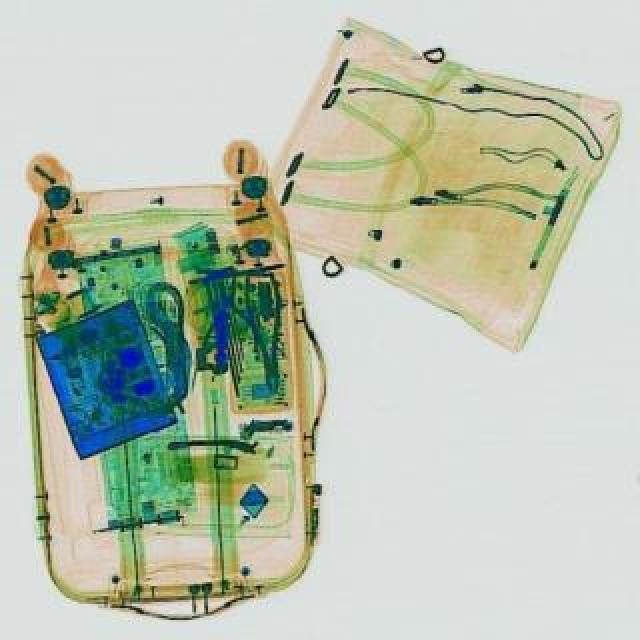wrench: (194, 268, 262, 364), (240, 270, 292, 394)
